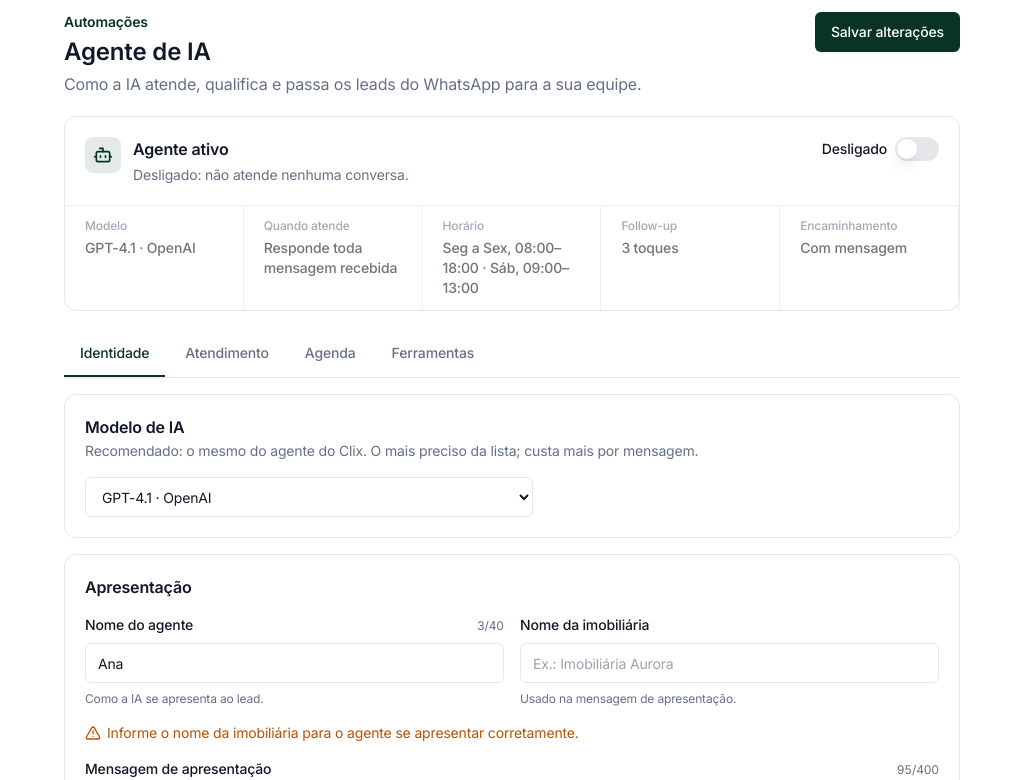
Test: saves the active state locally without any WhatsApp connection control
The image size is (1024, 780).
Expected: the heading "Agente de IA" is shown, [64,37,211,66]
Click the switch named "Agente ativo" at [917, 149], box [895,137,939,161]
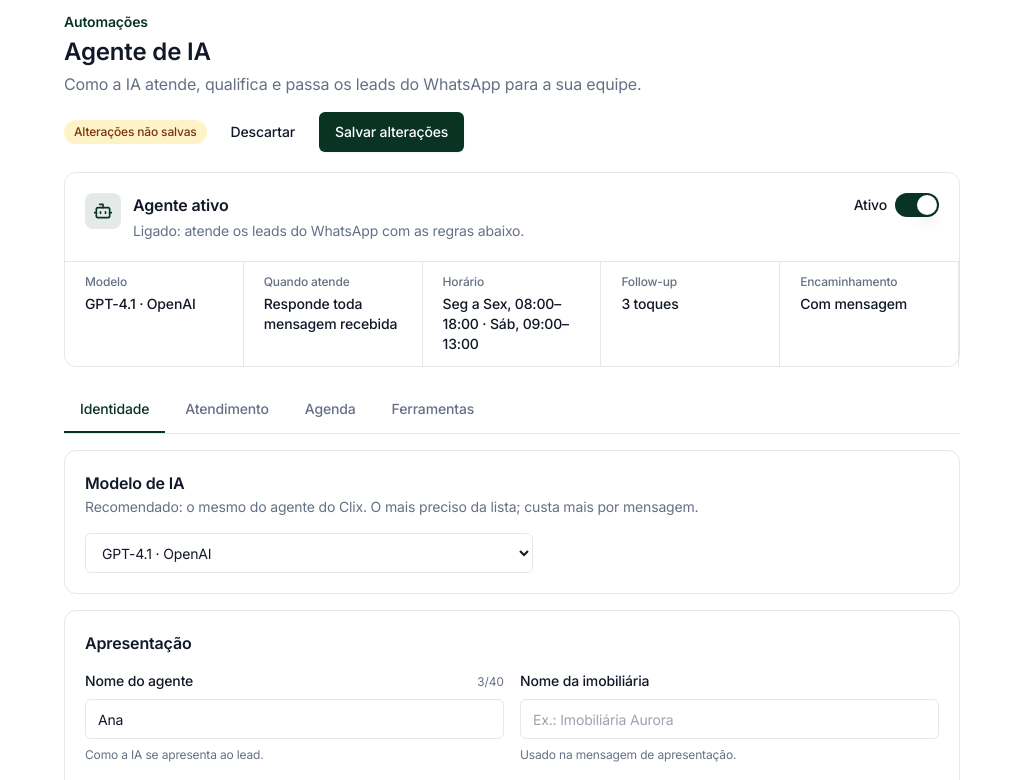
Now the text "Alterações não salvas" is shown, box [64,120,207,144]
Click the button "Salvar alterações" at [392, 132], box [319,112,464,152]
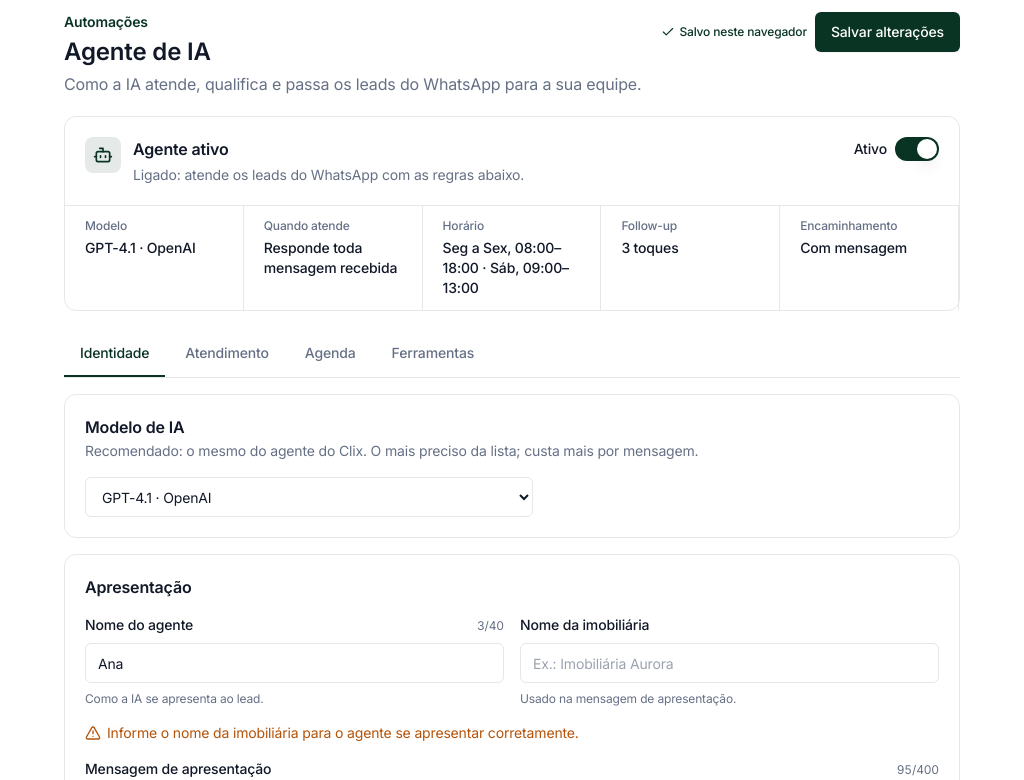
Now the text "Salvo neste navegador" is shown, box [661,24,807,40]
